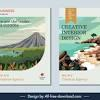paper: (0, 7, 100, 100)
